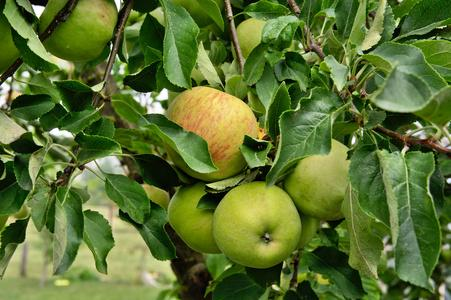unripe: (156, 81, 255, 177), (276, 129, 373, 225), (208, 180, 301, 277), (35, 0, 124, 67), (165, 178, 236, 255)
